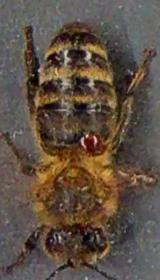varroa_mite: (69, 128, 115, 157)
